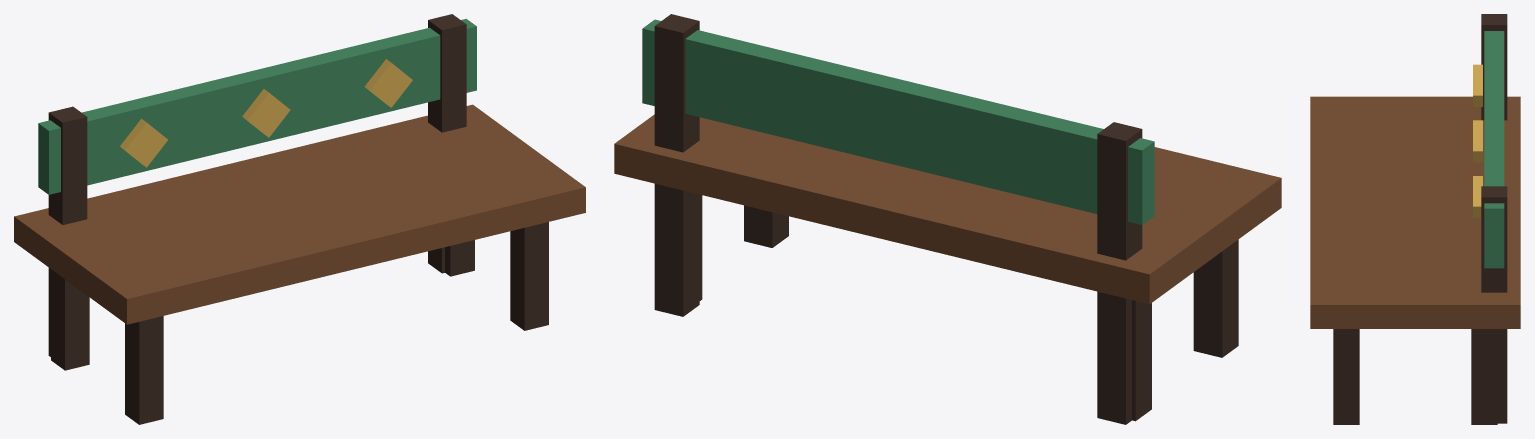
File: welcome_bench.glb
3 views of the same model, side by side, from view 1: azimuth 30°, elevation 25°; view 2: azimuth 150°, elevation 25°; view 3: azimuth 270°, elevation 25° (orthographic). The views are drawn at different scales.
Visible parts, largest first — view 1: welcome_bench; view 2: welcome_bench; view 3: welcome_bench.
Boxes of the visible parts, x1=… form: welcome_bench: x1=14, y1=14, x2=585, y2=424; welcome_bench: x1=614, y1=14, x2=1281, y2=424; welcome_bench: x1=1310, y1=14, x2=1520, y2=424.
Size of the model in its own units: 7.5 by 3.8 by 3.2.
